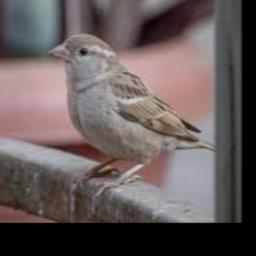Sparrow: (47, 33, 216, 196)
